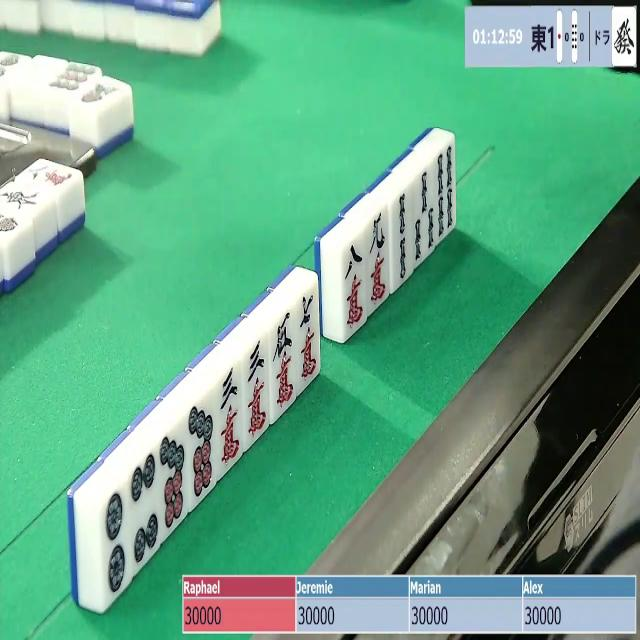2B: (393, 186, 416, 288)
2D: (102, 483, 130, 602)
3B: (415, 168, 437, 265)
3C: (216, 363, 242, 473), (246, 333, 271, 440)
4B: (436, 142, 458, 243)
4D: (130, 451, 158, 569)
5C: (273, 309, 297, 415)
7C: (296, 284, 316, 386)
7D: (160, 425, 188, 538), (187, 395, 214, 505)
8C: (341, 239, 367, 336)
9C: (366, 211, 389, 309)
GD: (614, 9, 637, 64)
